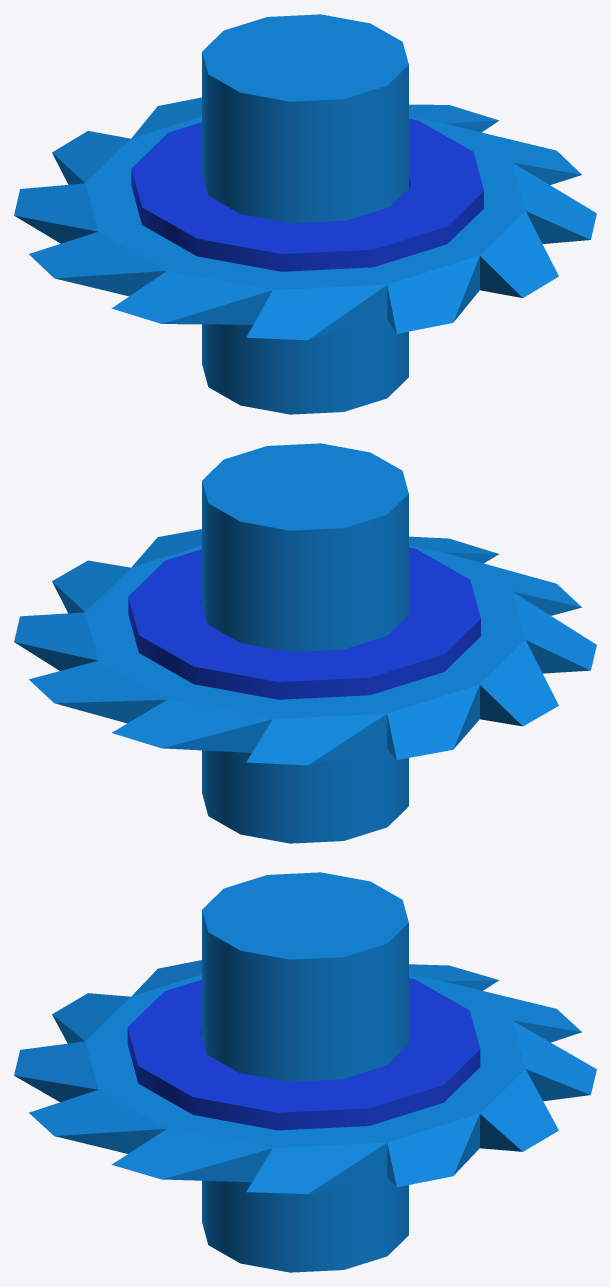
3 renders of one model, top to bottom at view 1: azimuth 30°, elevation 25°; view 2: azimuth 150°, elevation 25°; view 3: azimuth 270°, elevation 25°, orthographic.
Visible parts, largest first — view 1: rotating_saw, rotating_saw_body; view 2: rotating_saw, rotating_saw_body; view 3: rotating_saw, rotating_saw_body.
Boxes of the visible parts, x1=… form: rotating_saw: x1=14, y1=14, x2=596, y2=414; rotating_saw_body: x1=131, y1=119, x2=483, y2=271; rotating_saw: x1=14, y1=443, x2=596, y2=843; rotating_saw_body: x1=128, y1=547, x2=480, y2=699; rotating_saw: x1=14, y1=872, x2=596, y2=1272; rotating_saw_body: x1=127, y1=978, x2=480, y2=1130.
Bounding box in the file's own units: 1.21 × 0.718 × 1.21.
